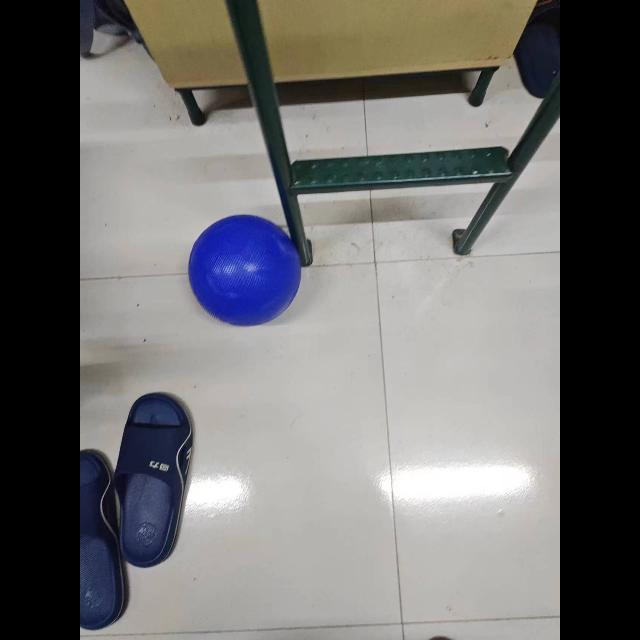B: (180, 210, 306, 328)
